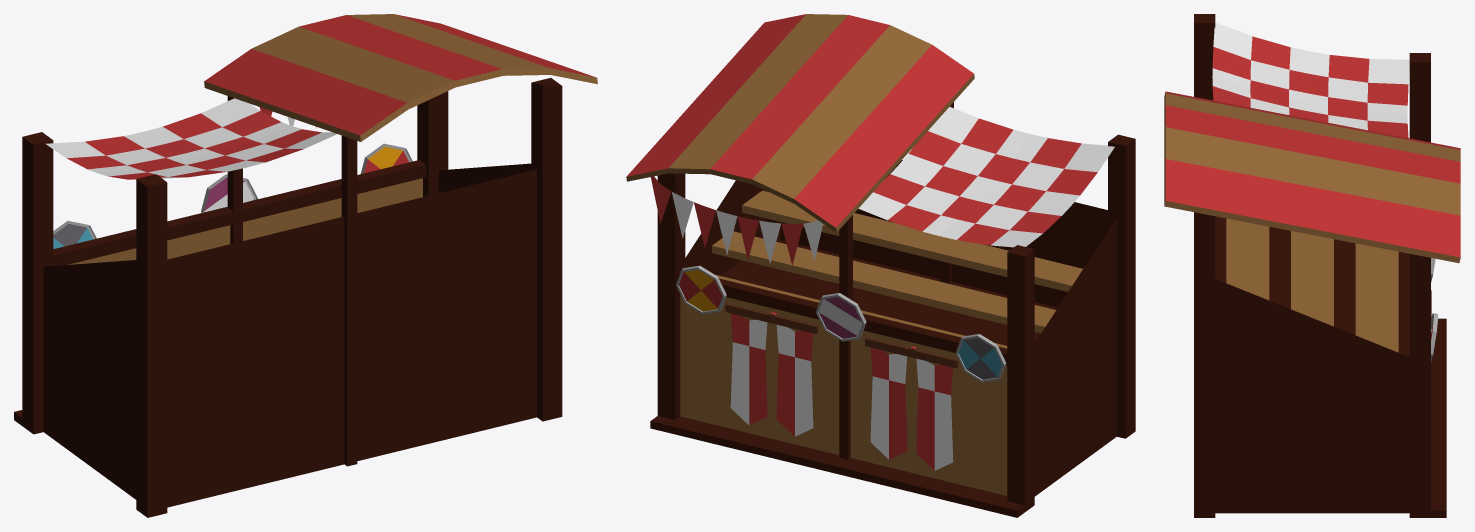
File: TarimaRosacruz.fbx
3 renders of one model, left to right at view 1: azimuth 30°, elevation 25°; view 2: azimuth 150°, elevation 25°; view 3: azimuth 270°, elevation 25°, orthographic. The views are drawn at different scales.
Visible parts, largest first — view 1: Tarima.004; view 2: Tarima.004; view 3: Tarima.004.
Part boxes in pixels (x1,y1,x2,y2): Tarima.004: (14, 14, 597, 517); Tarima.004: (626, 14, 1135, 517); Tarima.004: (1164, 14, 1460, 517).
Size of the model in its own units: 550 by 456 by 344.
